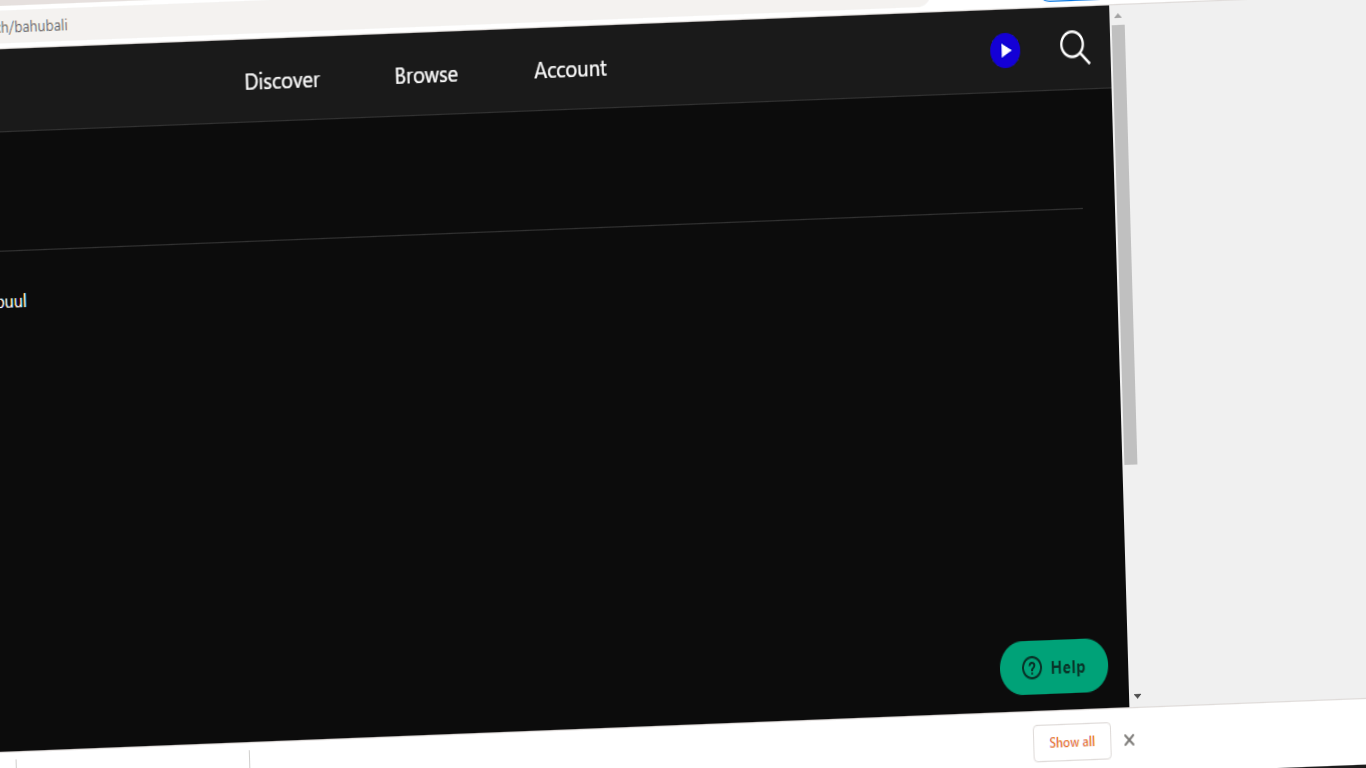myaccountbutton: (509, 51, 638, 109)
searchicon: (1046, 14, 1104, 90)
searchtextbox: (14, 156, 1072, 255)
